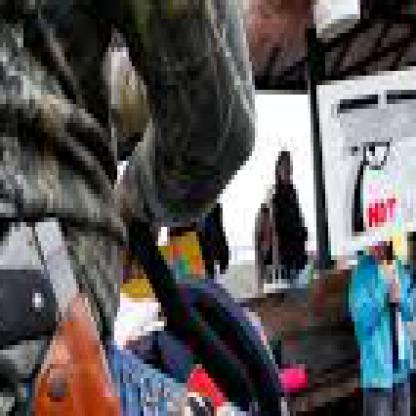gun: (0, 0, 159, 289)
